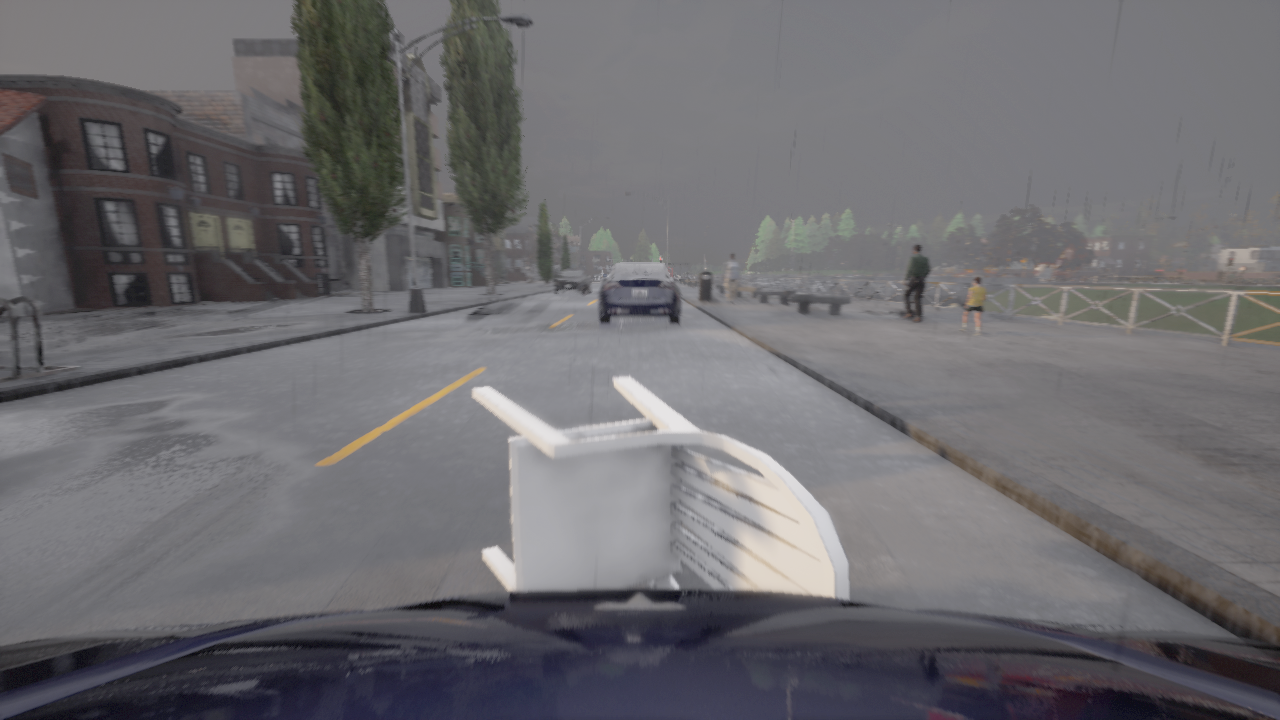cyclist: (0, 588, 1279, 719), (598, 263, 680, 323), (554, 269, 590, 294)
pedestrian: (902, 243, 929, 321), (960, 276, 985, 335), (723, 253, 739, 304)
